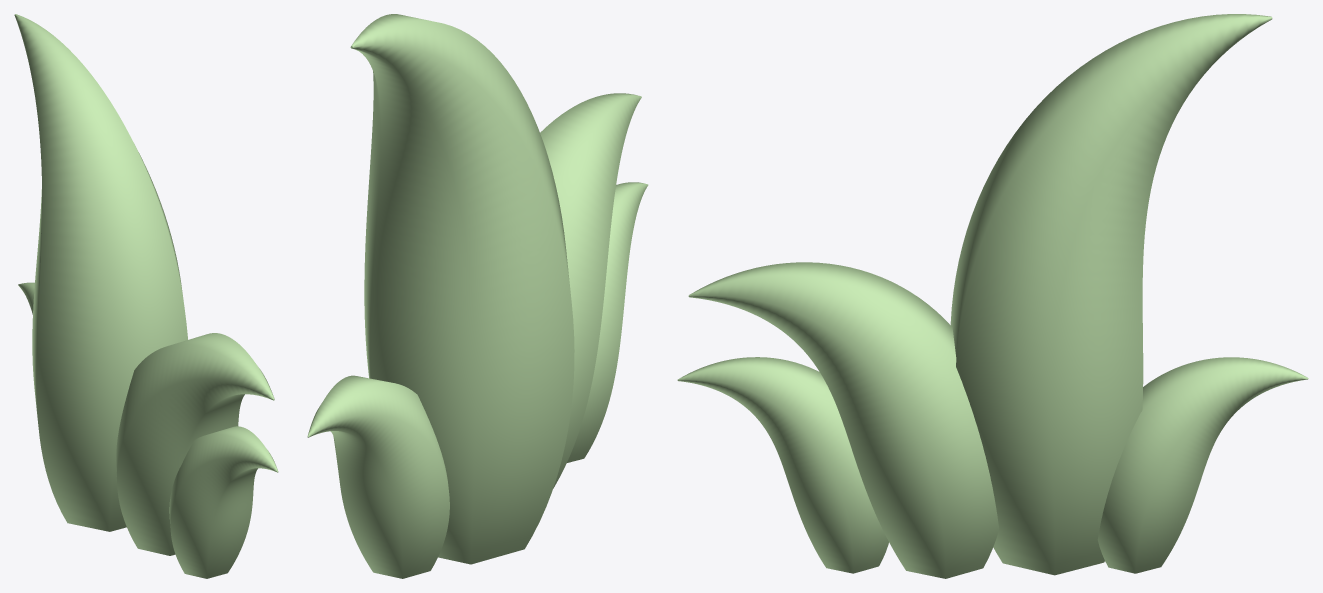
The model's file is Pasto.fbx.
3 renders of one model, left to right at view 1: azimuth 30°, elevation 25°; view 2: azimuth 150°, elevation 25°; view 3: azimuth 270°, elevation 25°, orthographic. The views are drawn at different scales.
Parts seen in each view (by area): view 1: NurbsPath.009; view 2: NurbsPath.009; view 3: NurbsPath.009.
Part boxes in pixels (<box>): NurbsPath.009: <box>14,14,278,578</box>; NurbsPath.009: <box>307,14,648,578</box>; NurbsPath.009: <box>677,14,1308,578</box>.
Size of the model in its own units: 28.39 by 77.16 by 82.65.
